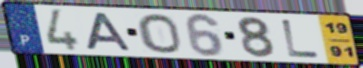4: (44, 7, 83, 52)
6: (185, 12, 225, 58)
8: (236, 15, 278, 59)
A: (85, 11, 135, 52)
L: (280, 18, 323, 59)
O: (135, 12, 185, 55)
